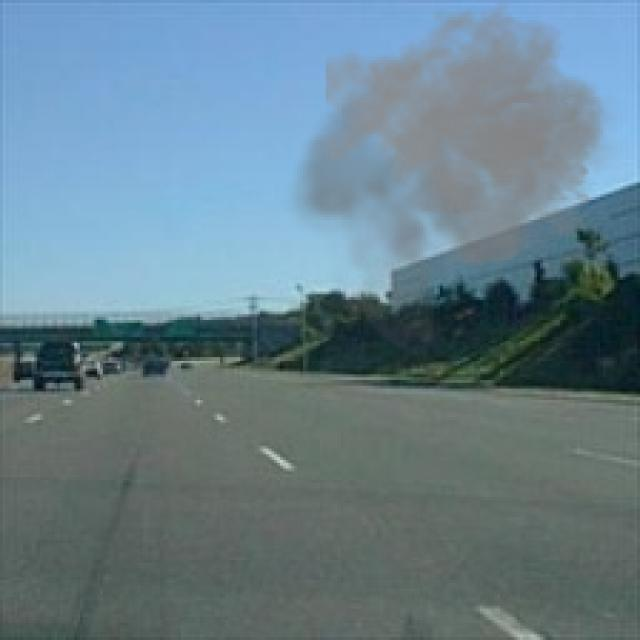Smoke: (282, 0, 628, 360)
